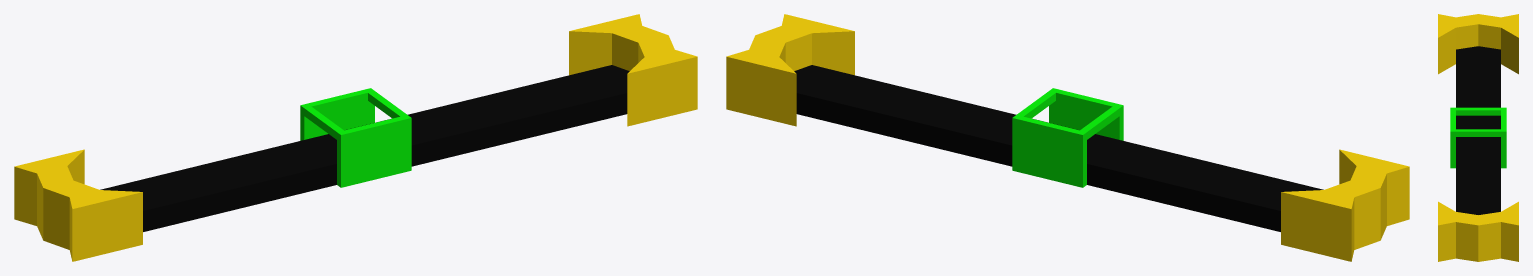
File: Afinador.fbx
The picture shows the model from 3 angles, left to right: view 1: azimuth 30°, elevation 25°; view 2: azimuth 150°, elevation 25°; view 3: azimuth 270°, elevation 25°; orthographic projection. The views are drawn at different scales.
Visible parts, largest first — view 1: Afinador; view 2: Afinador; view 3: Afinador.
Boxes of the visible parts, x1,y1,x2,y2 form: Afinador: (14, 14, 697, 261); Afinador: (726, 14, 1409, 261); Afinador: (1438, 14, 1518, 261).
Bounding box in the file's own units: 31 × 2.5 × 5.
